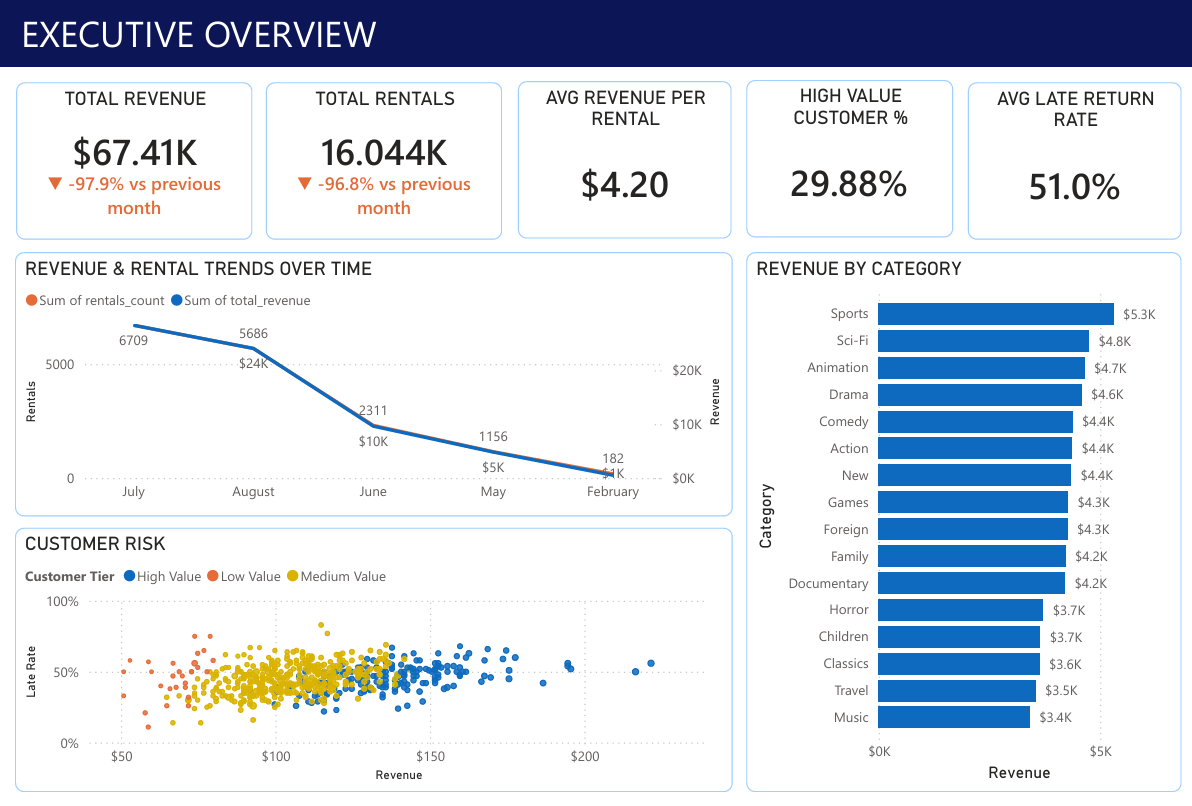

This screenshot's page, from the dashboard's own definition file:
{"tool":"powerbi","page":{"name":"Overview","canvas":[1280,720],"ordinal":0},"visuals":[{"type":"image","box":[64.3,16.1,89.3,91.1],"z":0,"group":"g2"},{"type":"actionButton","box":[13.1,203.6,176.2,58.3],"z":0,"group":"g1"},{"type":"lineChart","title":"REVENUE & RENTAL TRENDS OVER TIME","fields":{"Y":["Sum(v_rental_trends.rentals_count)"],"Y2":["Sum(v_rental_trends.total_revenue)"],"Category":["v_rental_trends.rental_year","v_rental_trends.rental_month"]},"box":[232.3,225.4,637.2,235],"z":0},{"type":"textbox","box":[12.5,107.2,191.1,96.4],"z":1000,"group":"g2"},{"type":"clusteredBarChart","title":"REVENUE BY CATEGORY","fields":{"Category":["v_category_performance.category_name"],"Y":["Sum(v_category_performance.total_revenue)"]},"box":[882.1,225.4,386.8,480],"z":1000},{"type":"actionButton","box":[13.1,259.6,182.1,58.3],"z":1000,"group":"g1"},{"type":"cardVisual","title":"AVG REVENUE PER RENTAL","fields":{"Data":["v_data_summary.Average Revenue per Rental"]},"box":[678.6,73.2,190.6,140],"z":2000},{"type":"actionButton","box":[13.1,315.5,182.1,58.3],"z":2000,"group":"g1"},{"type":"actionButton","box":[13.1,371.5,197.6,58.3],"z":3000,"group":"g1"},{"type":"scatterChart","title":"CUSTOMER RISK","fields":{"X":["v_customer_analysis.total_revenue"],"Series":["v_customer_analysis.value_tier"],"Y":["v_customer_analysis.late_rate"],"Size":["Sum(v_customer_analysis.total_rentals)"]},"box":[232.3,470.3,637.2,235.1],"z":3000},{"type":"cardVisual","title":"TOTAL RENTALS","fields":{"Data":["Sum(v_category_performance.rental_count)"]},"box":[455.3,73.7,210.1,140],"z":4000},{"type":"shape","box":[0,0,217.9,720.2],"z":5000},{"type":"shape","box":[175.9,0,1103.7,61.1],"z":6000},{"type":"cardVisual","title":"TOTAL REVENUE","fields":{"Data":["Sum(v_rental_trends.total_revenue)"]},"box":[232.7,73.7,210.1,140],"z":7000},{"type":"cardVisual","title":"HIGH VALUE CUSTOMER %","fields":{"Data":["v_data_summary.High-Value Customers %"]},"box":[882.1,72.3,183.7,140],"z":8000},{"type":"cardVisual","title":"AVG LATE RETURN RATE","fields":{"Data":["Avg(v_data_summary.late_rate)"]},"box":[1078.7,73.7,190.6,140.5],"z":9000},{"type":"textbox","box":[232.3,3.2,408.1,59.7],"z":10000},{"type":"cardVisual","fields":{"Data":["v_data_summary.CurrentDate"]},"box":[0,591.2,218.4,129.1],"z":11000},{"type":"group","id":"g1","title":"Menu","box":[13.1,203.6,197.6,226.2],"z":12000},{"type":"group","id":"g2","title":"Haed","box":[12.5,16.1,191.1,187.5],"z":13000}]}

Visuals, with their boxes on the page's 1280x720 design canvas (x1, y1, x2, y2). These are canvas units, not pixel positions in the 1192x806 screenshot, which may show the page scaled, cropped or inside an application window:
image: box(64, 16, 154, 107)
actionButton: box(13, 204, 189, 262)
"REVENUE & RENTAL TRENDS OVER TIME" lineChart: box(232, 225, 870, 460)
textbox: box(12, 107, 204, 204)
"REVENUE BY CATEGORY" clusteredBarChart: box(882, 225, 1269, 705)
actionButton: box(13, 260, 195, 318)
"AVG REVENUE PER RENTAL" cardVisual: box(679, 73, 869, 213)
actionButton: box(13, 316, 195, 374)
actionButton: box(13, 372, 211, 430)
"CUSTOMER RISK" scatterChart: box(232, 470, 870, 705)
"TOTAL RENTALS" cardVisual: box(455, 74, 665, 214)
shape: box(0, 0, 218, 720)
shape: box(176, 0, 1280, 61)
"TOTAL REVENUE" cardVisual: box(233, 74, 443, 214)
"HIGH VALUE CUSTOMER %" cardVisual: box(882, 72, 1066, 212)
"AVG LATE RETURN RATE" cardVisual: box(1079, 74, 1269, 214)
textbox: box(232, 3, 640, 63)
cardVisual - v_data_summary.CurrentDate: box(0, 591, 218, 720)
"Menu" group: box(13, 204, 211, 430)
"Haed" group: box(12, 16, 204, 204)
